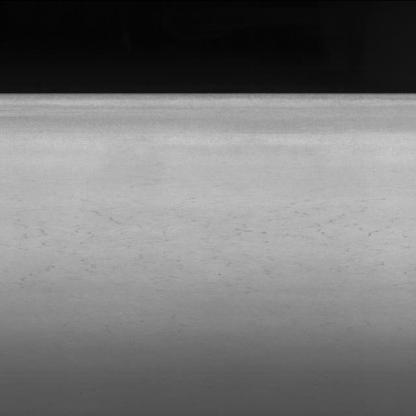silk_spot: (4, 187, 416, 308)
